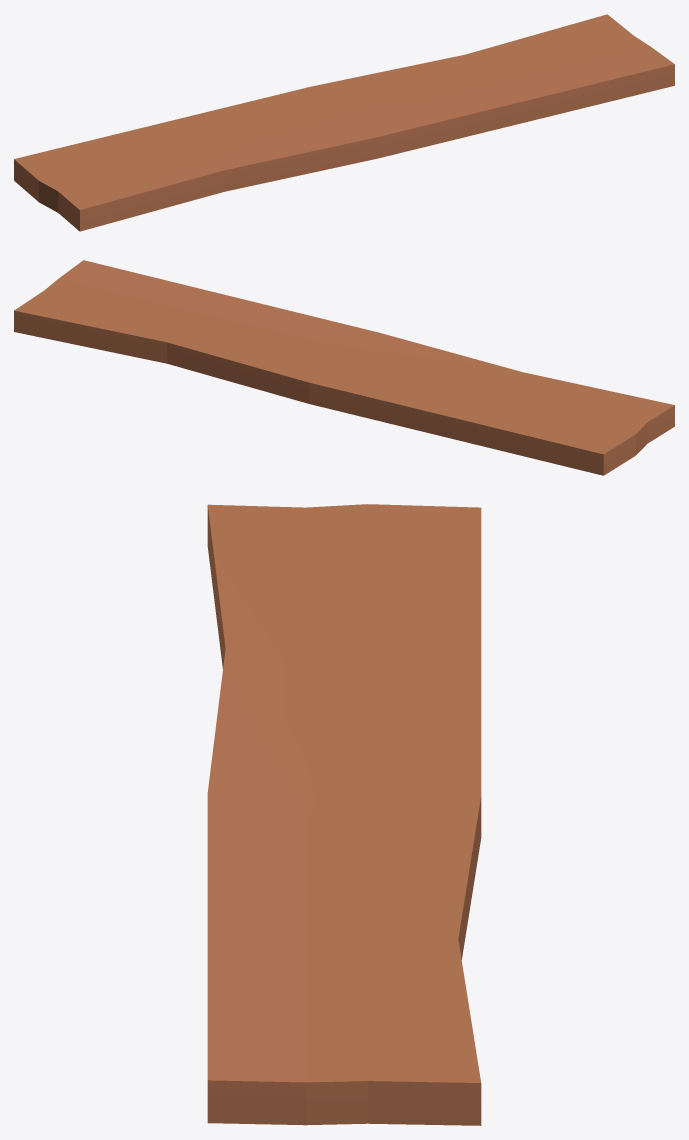
File: board-4.glb
3 renders of one model, top to bottom at view 1: azimuth 30°, elevation 25°; view 2: azimuth 150°, elevation 25°; view 3: azimuth 270°, elevation 25°, orthographic. The views are drawn at different scales.
Parts seen in each view (by area): view 1: board 4; view 2: board 4; view 3: board 4.
Boxes of the visible parts, x1,y1,x2,y2 form: board 4: (14, 14, 674, 231); board 4: (14, 260, 674, 475); board 4: (207, 504, 481, 1125).
Size of the model in its own units: 3.4 by 0.121 by 0.6788.
1 material, 1 textured.
